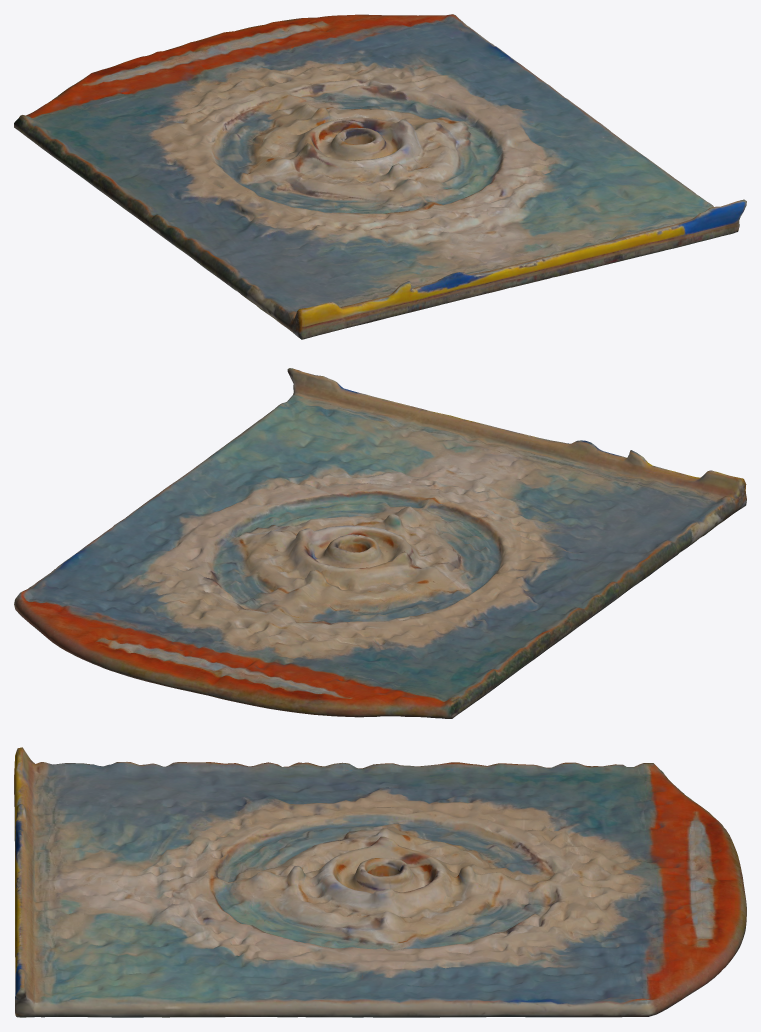
The picture shows the model from 3 angles, top to bottom: view 1: azimuth 30°, elevation 25°; view 2: azimuth 150°, elevation 25°; view 3: azimuth 270°, elevation 25°; orthographic projection. The views are drawn at different scales.
Visible parts, largest first — view 1: file1; view 2: file1; view 3: file1.
Part boxes in pixels (x1,y1,x2,y2): file1: [14, 14, 746, 339]; file1: [14, 368, 746, 718]; file1: [14, 747, 746, 1017].
Bounding box in the file's own units: 1.59 × 0.111 × 2.
Materials: 1 (1 with a texture image).
